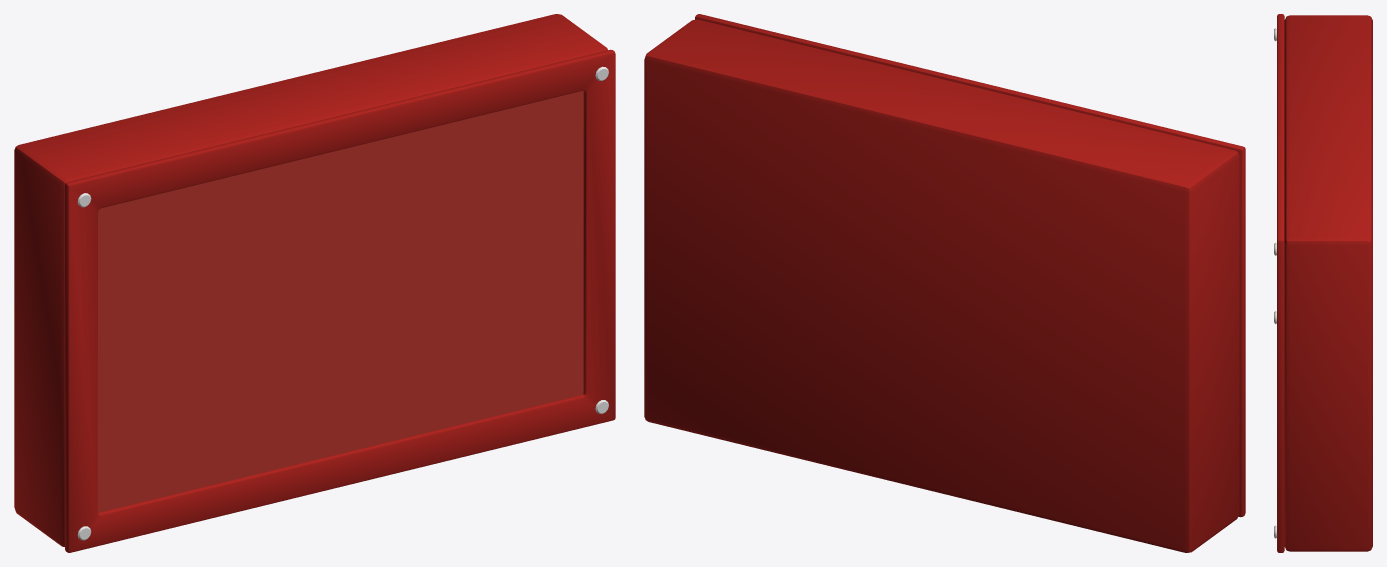
Rendered from Kit_AlarmZoneCard.fbx.
3 renders of one model, left to right at view 1: azimuth 30°, elevation 25°; view 2: azimuth 150°, elevation 25°; view 3: azimuth 270°, elevation 25°, orthographic. The views are drawn at different scales.
Visible parts, largest first — view 1: Kit_AlarmZoneCard_LOD0; view 2: Kit_AlarmZoneCard_LOD0; view 3: Kit_AlarmZoneCard_LOD0.
Part boxes in pixels (x1,y1,x2,y2): Kit_AlarmZoneCard_LOD0: [14, 14, 615, 552]; Kit_AlarmZoneCard_LOD0: [644, 14, 1245, 552]; Kit_AlarmZoneCard_LOD0: [1274, 14, 1372, 552].
Size of what is drawn, in the model's own units: 0.286 by 0.184 by 0.0526.
